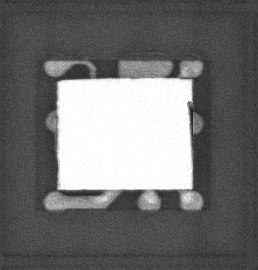DIE_BROKEN: (185, 97, 195, 145)
